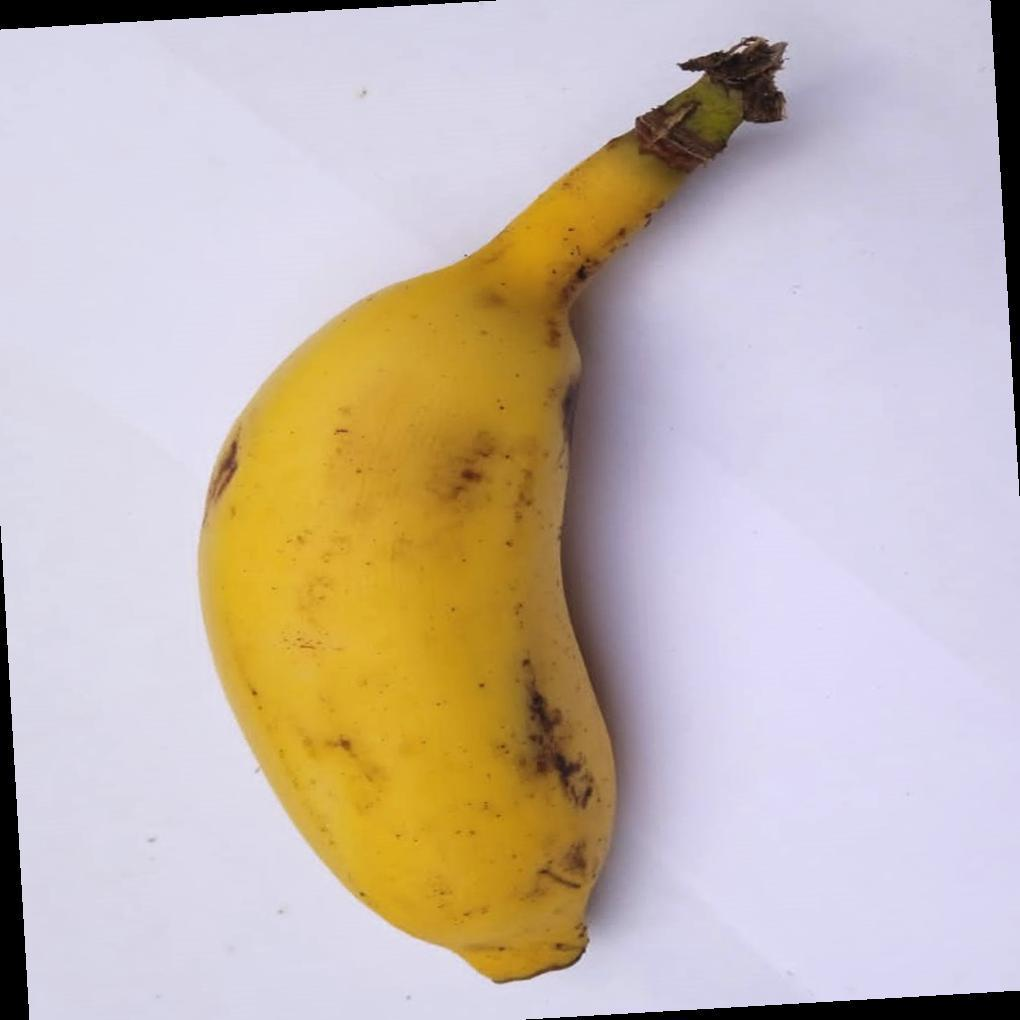Banana Ripe: (198, 81, 824, 1020)
